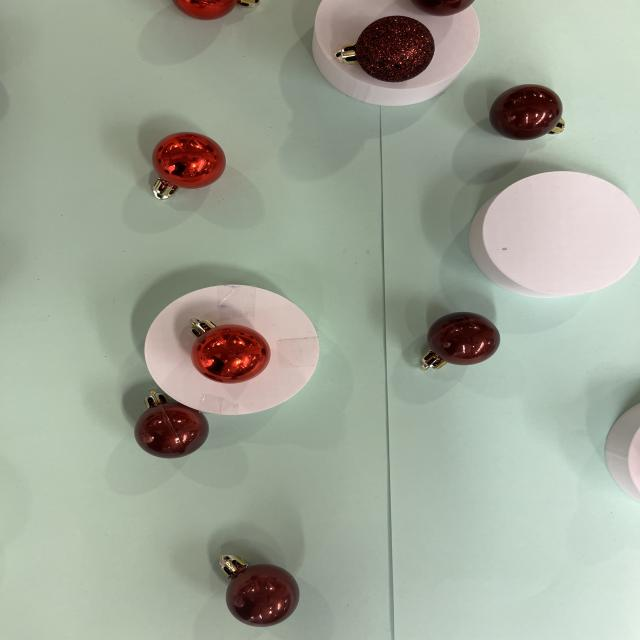glitter-bauble: (332, 14, 443, 87)
glossy-bauble: (181, 314, 276, 388), (140, 127, 232, 203), (189, 318, 271, 384), (152, 132, 226, 200), (164, 0, 263, 27), (171, 0, 260, 21)
wine-red-bauble: (212, 552, 308, 630), (478, 72, 575, 147), (122, 389, 214, 463), (415, 308, 505, 376), (219, 554, 300, 628), (134, 389, 209, 460), (419, 312, 500, 371), (489, 84, 565, 141), (406, 0, 481, 17), (410, 0, 476, 16)
